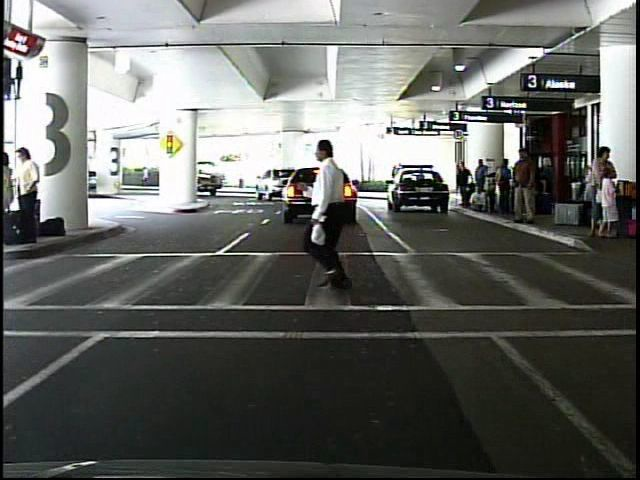person: (301, 131, 371, 298), (16, 146, 45, 247), (510, 144, 541, 226), (3, 150, 31, 237), (456, 163, 473, 210), (140, 163, 152, 190)
